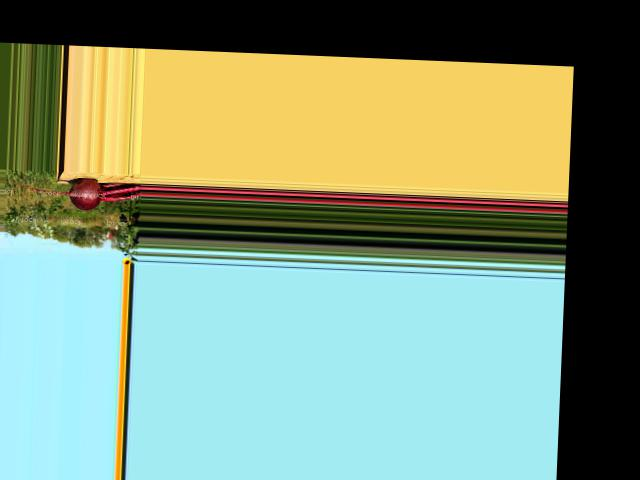beet: (9, 174, 142, 212)
